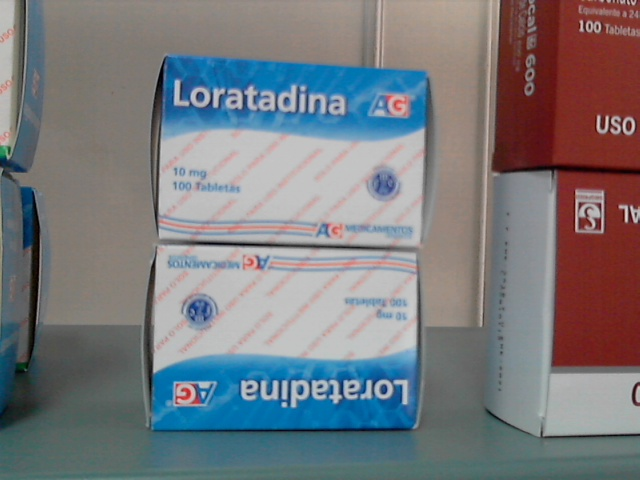AG: (163, 58, 420, 245), (156, 248, 417, 429)
